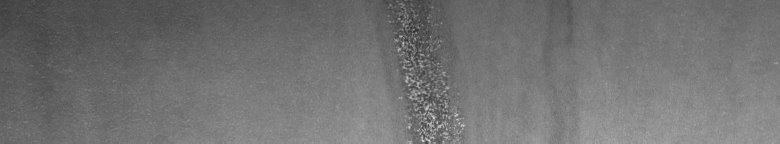hc: (384, 4, 465, 136)
